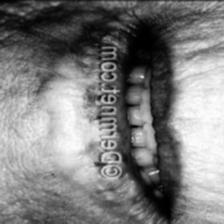Potentially Malignant Skin Tumors: (78, 86, 106, 123)
